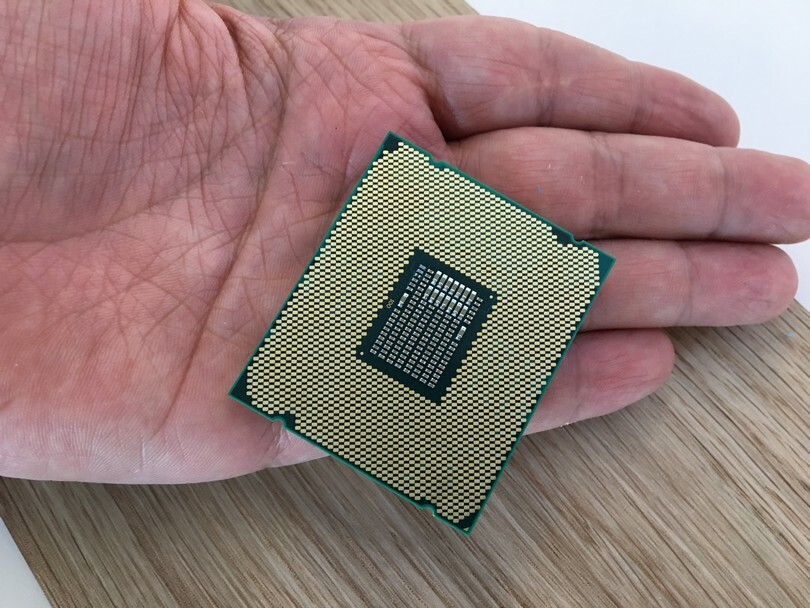processor: (225, 129, 618, 537)
